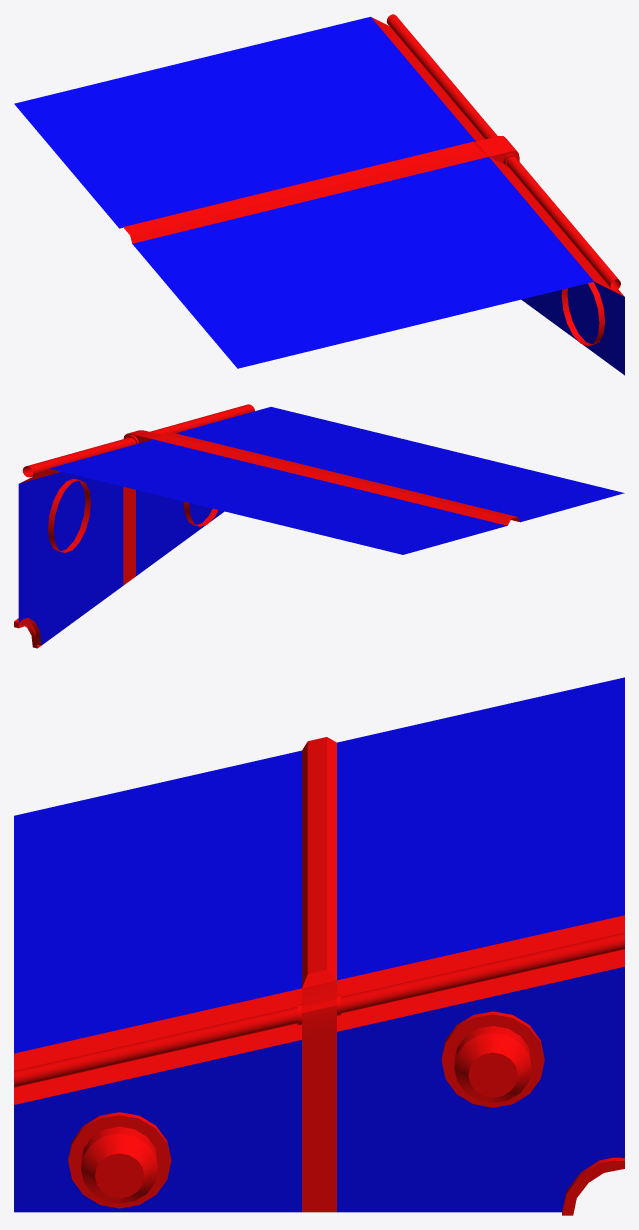
The model's file is 2x2_Stairs.FBX.
3 renders of one model, top to bottom at view 1: azimuth 30°, elevation 25°; view 2: azimuth 150°, elevation 25°; view 3: azimuth 270°, elevation 25°, orthographic. The views are drawn at different scales.
Visible parts, largest first — view 1: 2x2_Stair; view 2: 2x2_Stair; view 3: 2x2_Stair.
Boxes of the visible parts, x1=… form: 2x2_Stair: x1=14, y1=14, x2=624, y2=375; 2x2_Stair: x1=14, y1=404, x2=624, y2=648; 2x2_Stair: x1=14, y1=677, x2=624, y2=1215.
Size of the model in its own units: 213 by 100 by 200.
